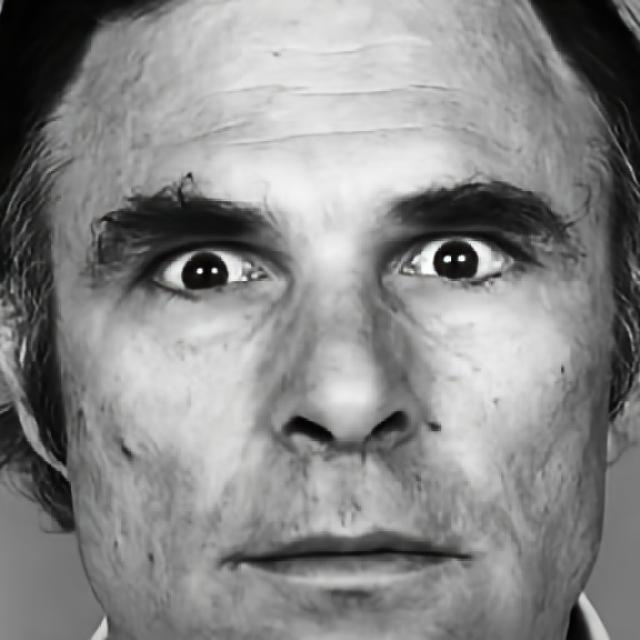fear: (40, 0, 618, 640)
